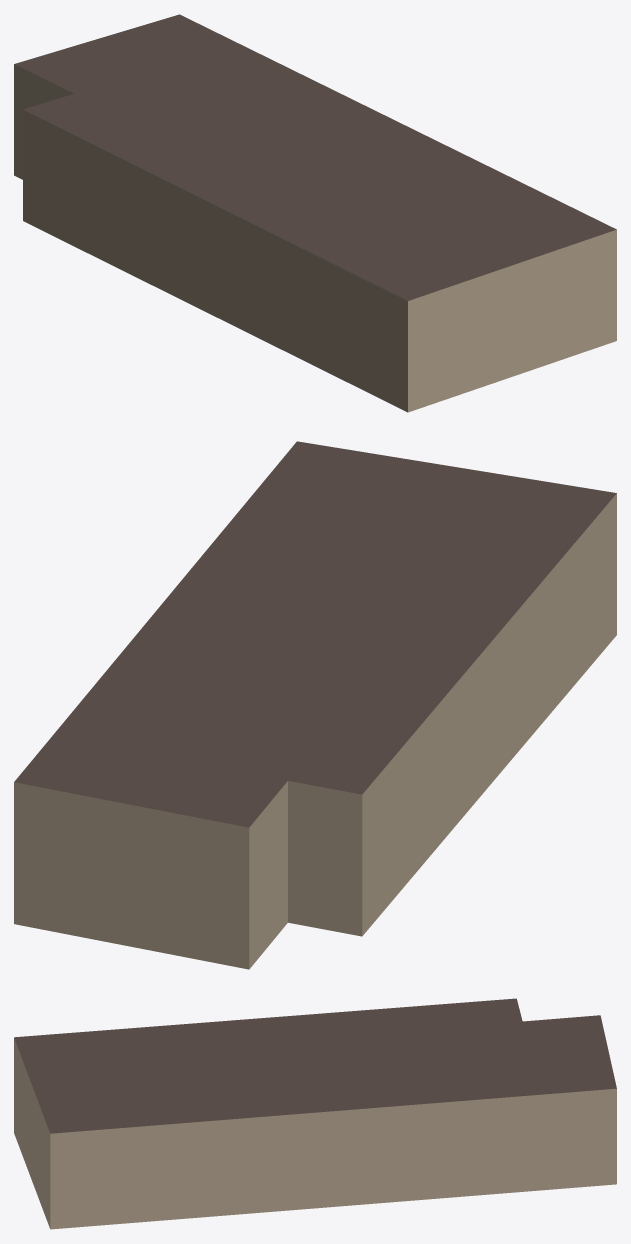
The picture shows the model from 3 angles, top to bottom: view 1: azimuth 30°, elevation 25°; view 2: azimuth 150°, elevation 25°; view 3: azimuth 270°, elevation 25°; orthographic projection. The views are drawn at different scales.
Parts seen in each view (by area): view 1: HP-w1512911272; view 2: HP-w1512911272; view 3: HP-w1512911272.
Part boxes in pixels (x1,y1,x2,y2): HP-w1512911272: [14, 14, 616, 412]; HP-w1512911272: [14, 441, 616, 969]; HP-w1512911272: [14, 998, 616, 1229].
Size of the model in its own units: 27.27 by 9 by 51.37.
